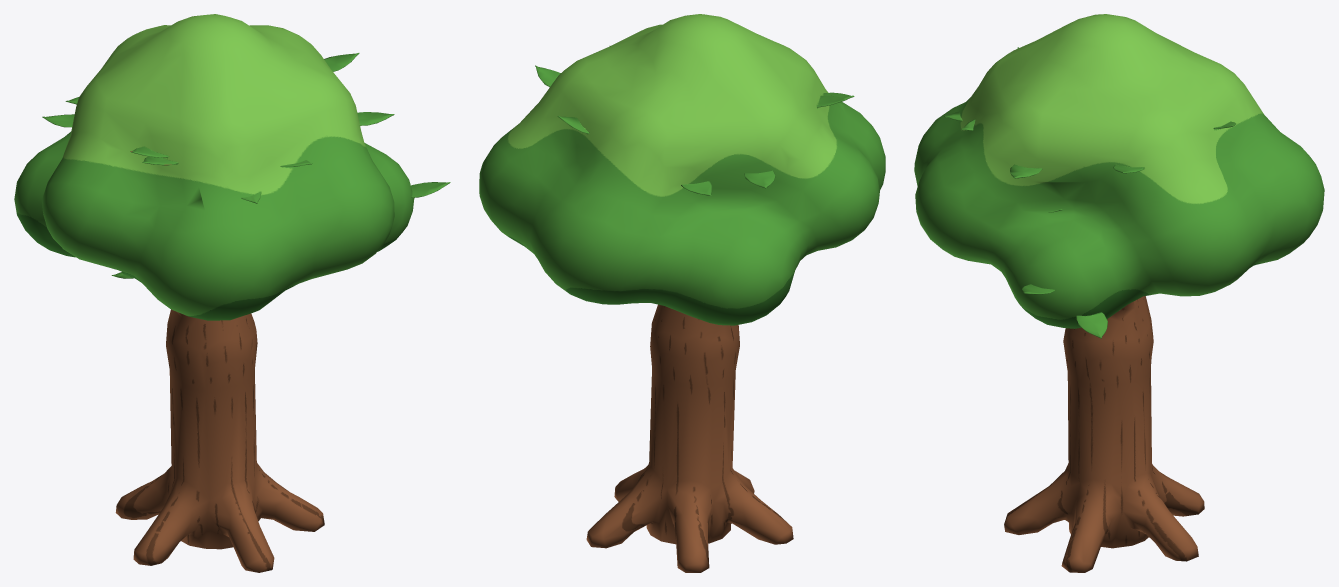
Rendered from Oak.fbx.
3 views of the same model, side by side, from view 1: azimuth 30°, elevation 25°; view 2: azimuth 150°, elevation 25°; view 3: azimuth 270°, elevation 25° (orthographic).
Visible parts, largest first — view 1: Oak; view 2: Oak; view 3: Oak.
Boxes of the visible parts, x1,y1,x2,y2 form: Oak: (14, 14, 450, 572); Oak: (479, 14, 885, 572); Oak: (914, 14, 1324, 572).
Bounding box in the file's own units: 3.41 × 4.55 × 3.34.
1 material, 1 textured.
